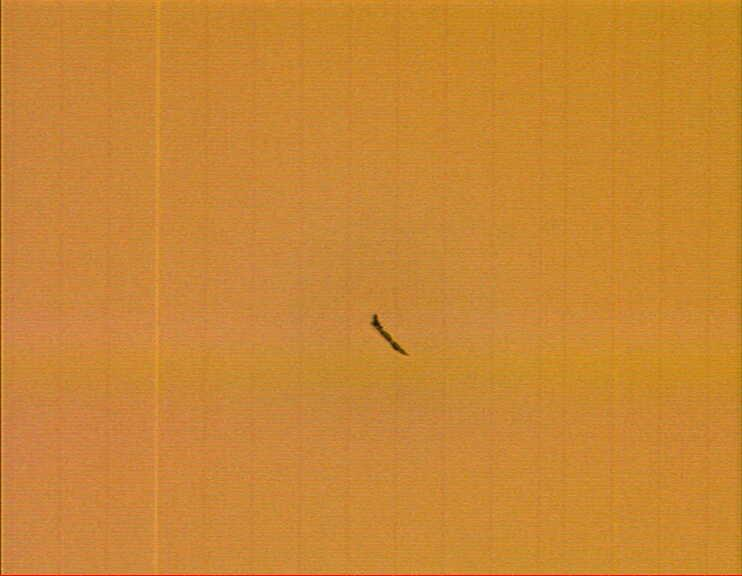PIQ PARTICLE: (364, 308, 418, 361)
